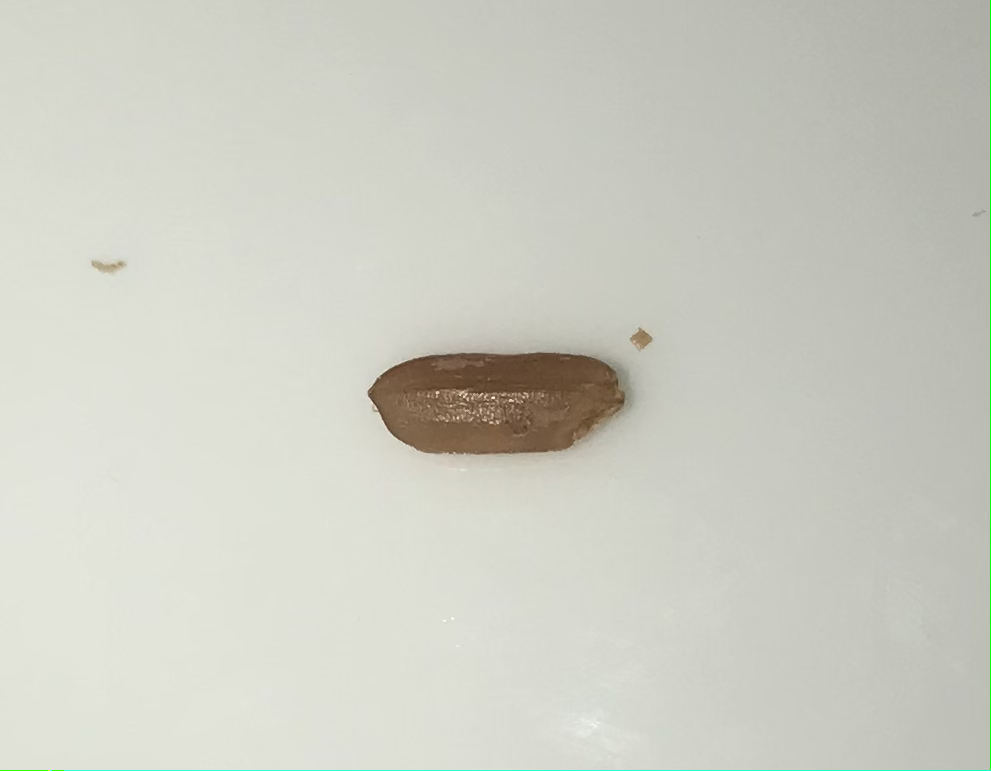Gao Lut Dien Bien: (360, 332, 640, 462)
